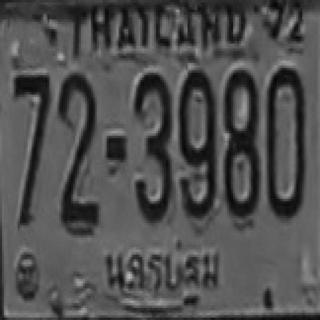N00: (265, 66, 304, 215), (265, 67, 304, 183), (178, 68, 215, 160)
N03: (132, 78, 170, 220)
N07: (12, 73, 49, 165)
N08: (223, 68, 259, 216)
N09: (178, 70, 215, 216), (178, 90, 215, 216)
P28: (97, 238, 225, 308)
